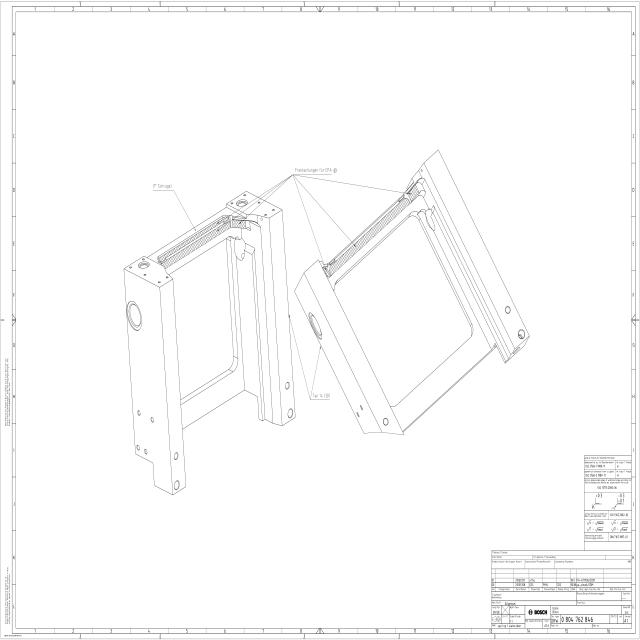dimension: (151, 182, 173, 190)
